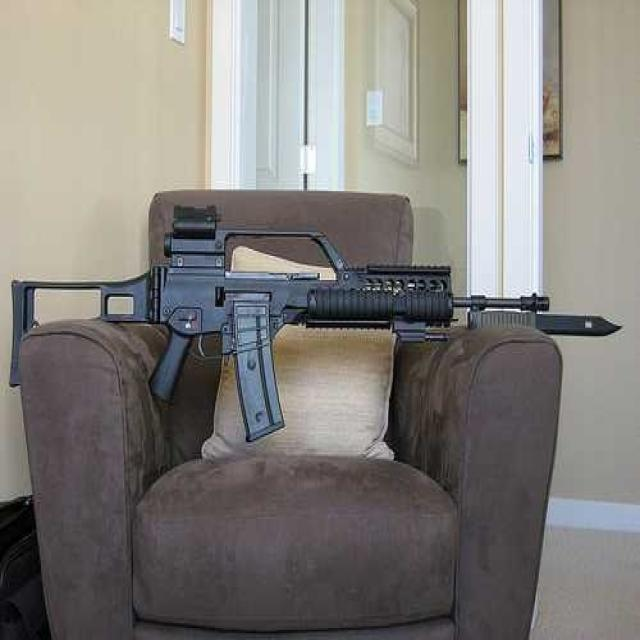RifleTel: (8, 196, 554, 439)
